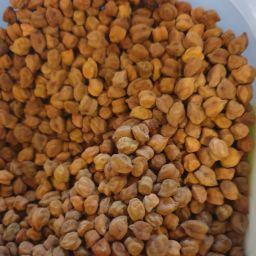Black Chickpeas: (3, 1, 255, 256), (27, 23, 191, 233)
